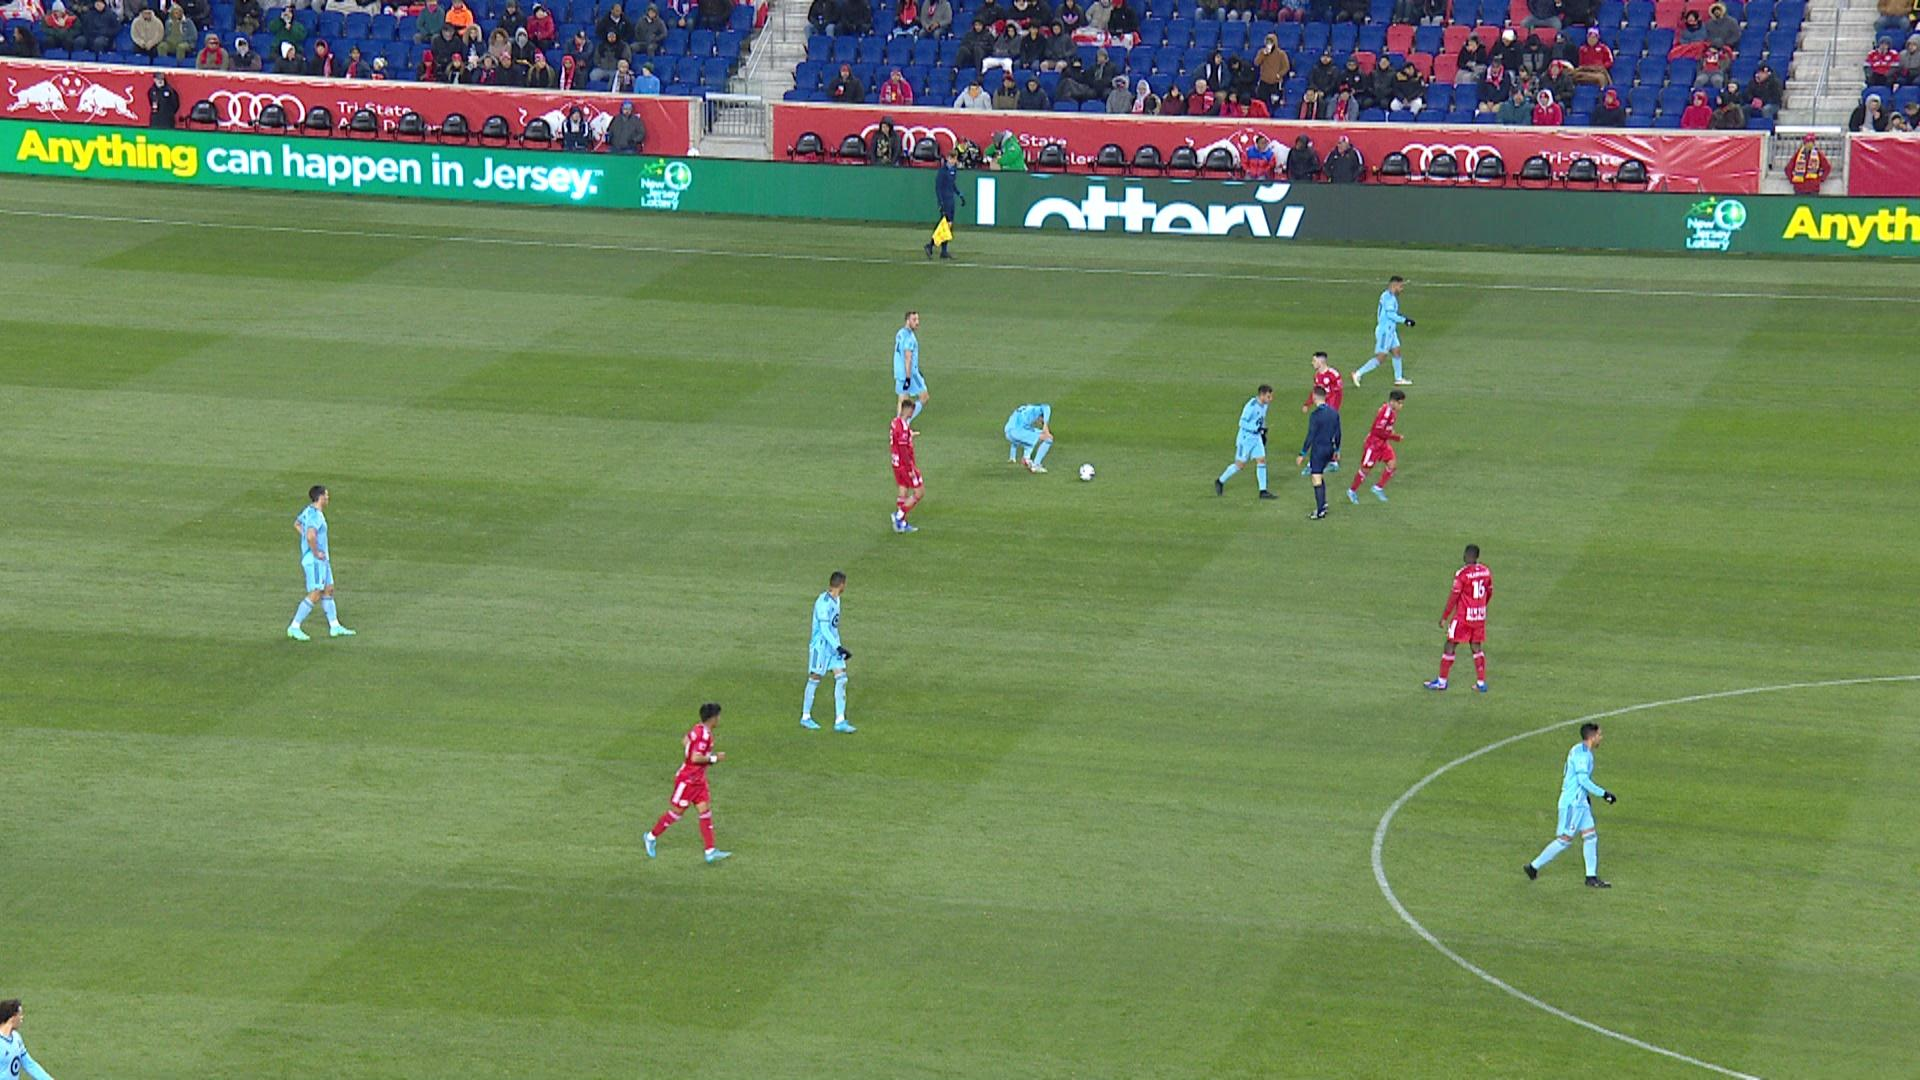football: (1078, 462, 1096, 482)
